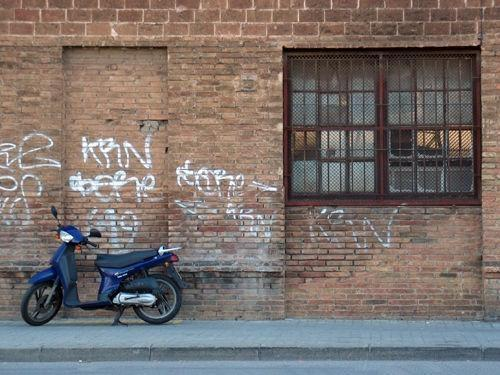motorcycle: (20, 200, 190, 326)
